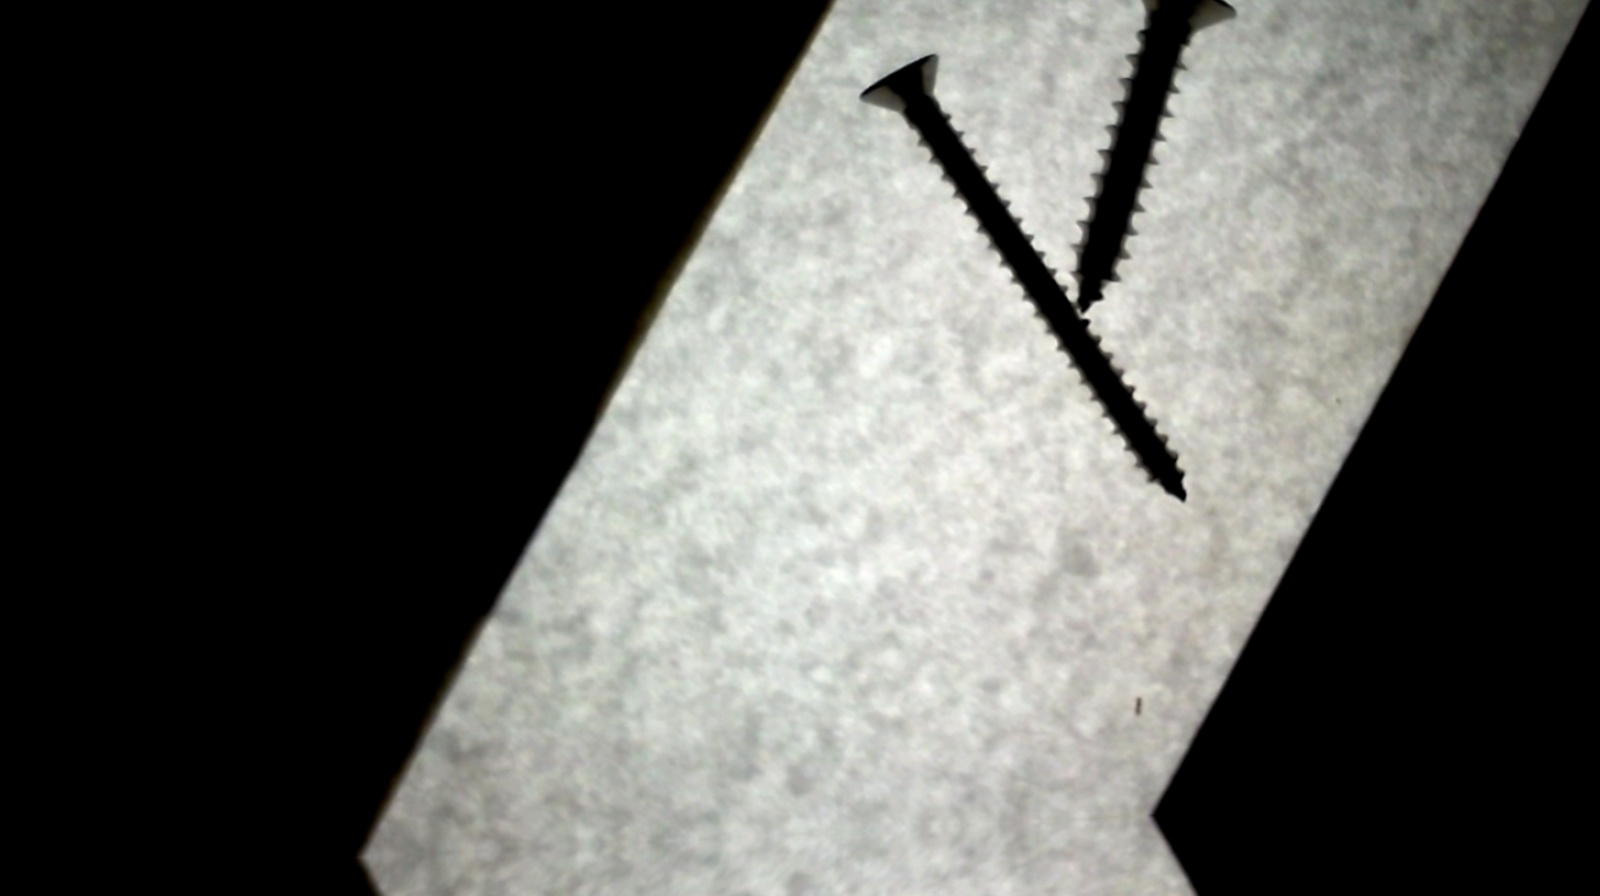S001: (1004, 0, 1295, 322)
S002: (853, 46, 1192, 533)
